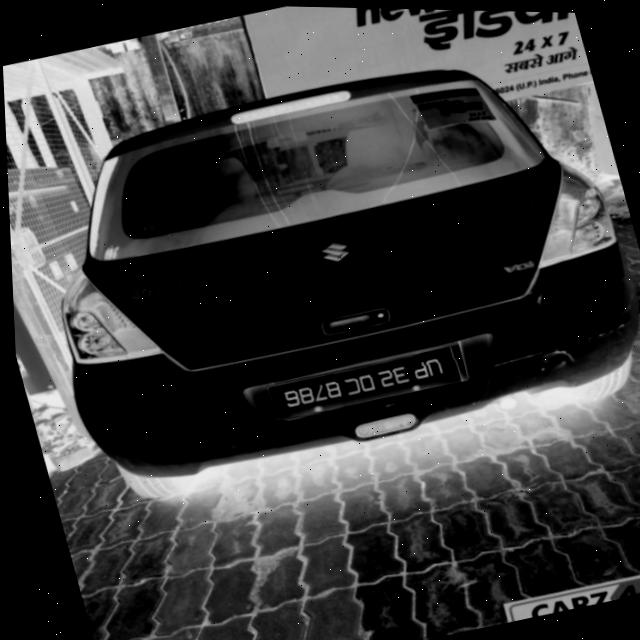Non_registered: (261, 339, 466, 422)
